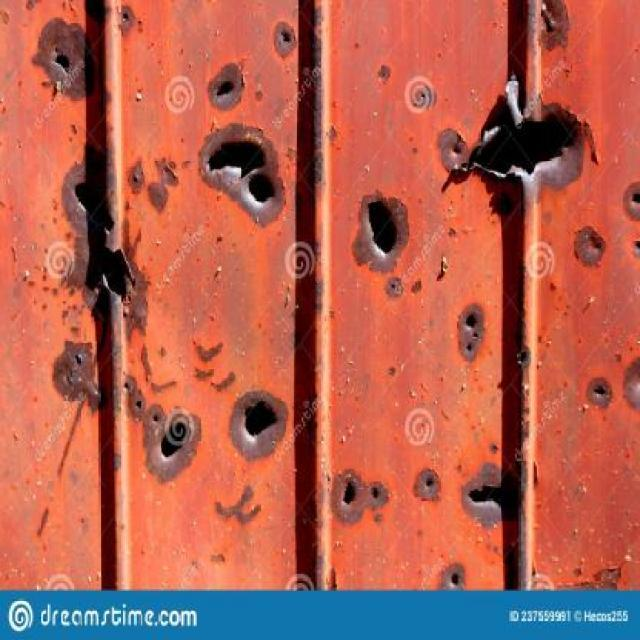Hole: (454, 71, 580, 186), (68, 145, 142, 317), (197, 123, 289, 223), (117, 372, 198, 483), (52, 339, 105, 413), (232, 390, 286, 459), (466, 472, 522, 523), (365, 195, 400, 257), (211, 65, 245, 105), (48, 37, 75, 78), (505, 543, 516, 591), (341, 480, 357, 508), (280, 28, 294, 48), (515, 349, 528, 366), (465, 314, 477, 329), (449, 572, 460, 588), (592, 385, 606, 397), (423, 476, 435, 490), (120, 11, 131, 25), (371, 485, 378, 500), (632, 192, 640, 205), (389, 282, 397, 293), (634, 242, 640, 253), (594, 243, 601, 251), (466, 343, 472, 352), (473, 331, 479, 338), (420, 94, 426, 98), (454, 150, 458, 156), (382, 74, 385, 78), (414, 150, 417, 153)
Rust: (306, 3, 326, 189), (526, 0, 570, 52), (146, 157, 180, 215), (214, 485, 261, 525), (623, 357, 640, 411), (126, 159, 146, 199), (195, 342, 223, 365), (139, 343, 153, 382), (210, 371, 236, 392), (151, 379, 177, 396), (194, 368, 214, 383), (182, 160, 191, 169)
